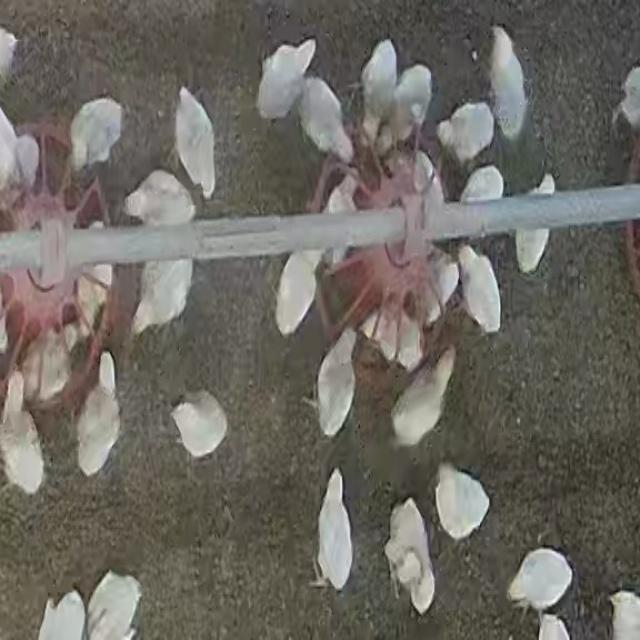chicken: (389, 345, 459, 447), (385, 496, 437, 617), (76, 348, 123, 478), (1, 370, 47, 496), (298, 76, 356, 170), (255, 38, 315, 123), (314, 467, 354, 593), (131, 258, 193, 339), (174, 85, 218, 198), (68, 96, 125, 183), (485, 25, 526, 143), (507, 546, 574, 616), (21, 327, 76, 412), (316, 327, 358, 438), (433, 464, 490, 542), (122, 169, 197, 228), (171, 387, 228, 462), (274, 250, 322, 338), (436, 102, 496, 172), (457, 244, 501, 335), (390, 62, 435, 150), (85, 571, 143, 639), (514, 174, 554, 272), (361, 307, 420, 373), (359, 38, 398, 137), (0, 105, 37, 205), (34, 592, 86, 640), (451, 166, 507, 210), (74, 274, 108, 341), (416, 156, 446, 224), (612, 64, 639, 136), (325, 172, 360, 227), (432, 248, 460, 316), (607, 590, 640, 639)
